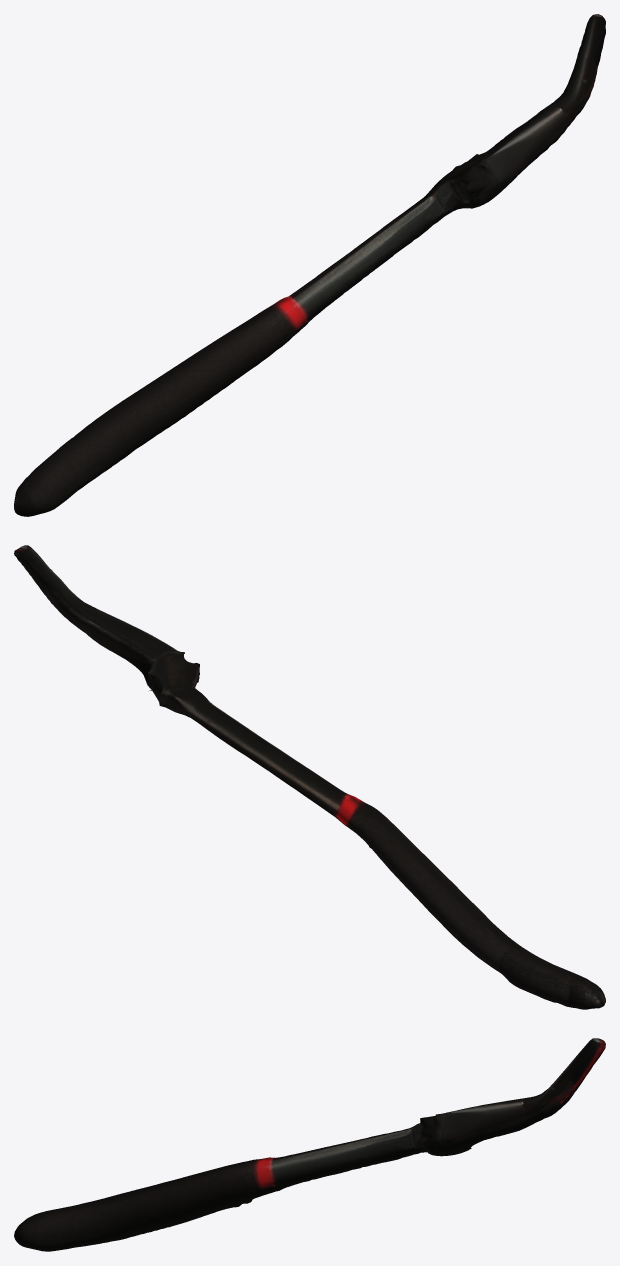
Rendered from plier_left.dae.
3 renders of one model, top to bottom at view 1: azimuth 30°, elevation 25°; view 2: azimuth 150°, elevation 25°; view 3: azimuth 330°, elevation 25°, orthographic. The views are drawn at different scales.
Visible parts, largest first — view 1: plier_left; view 2: plier_left; view 3: plier_left.
Part boxes in pixels (x1=…): plier_left: x1=14, y1=14, x2=605, y2=516; plier_left: x1=14, y1=545, x2=605, y2=1009; plier_left: x1=14, y1=1038, x2=605, y2=1251.
Bounding box in the file's own units: 0.2644 × 0.0307 × 0.147.
Materials: 1 (1 with a texture image).
